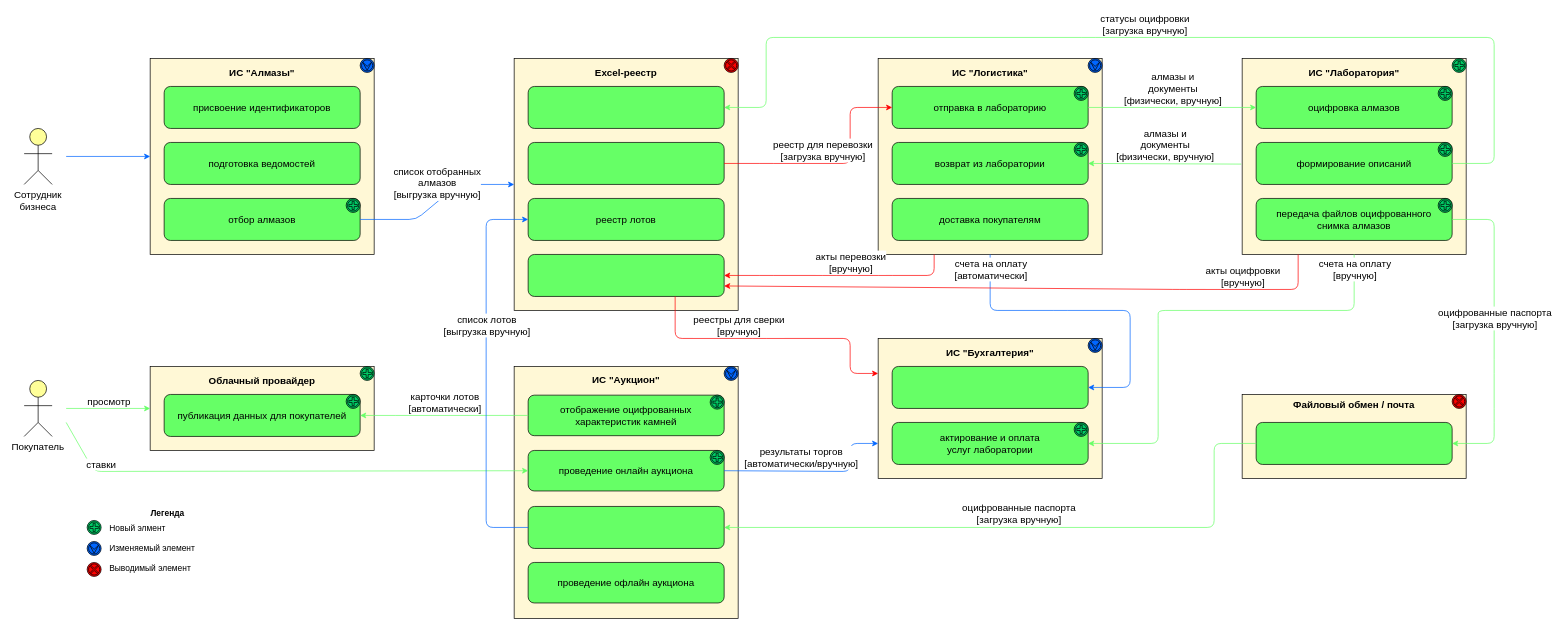
Some shapes in this 1563 by 631 pixel diagram are drawn without their labels. The shapes that lost their labels are listed below. From the top down, each one's centre as x and y in pixels, then its label:
At (625,107): "статусы оцифровки".
At (625,163): "реестр перевозок".
At (625,275): "реестр актов".
At (989,387): "актирование и оплата услуг перевозчика".
At (1353,443): "хранение файлов оцифровки".
At (625,527): "формирование лотов".
